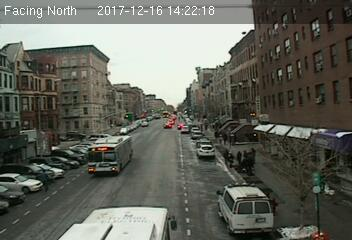bus: (85, 135, 135, 177)
car: (197, 144, 215, 157), (181, 125, 189, 133)
pedestrian: (228, 151, 234, 167), (236, 150, 242, 164)
police: (216, 180, 276, 235)
